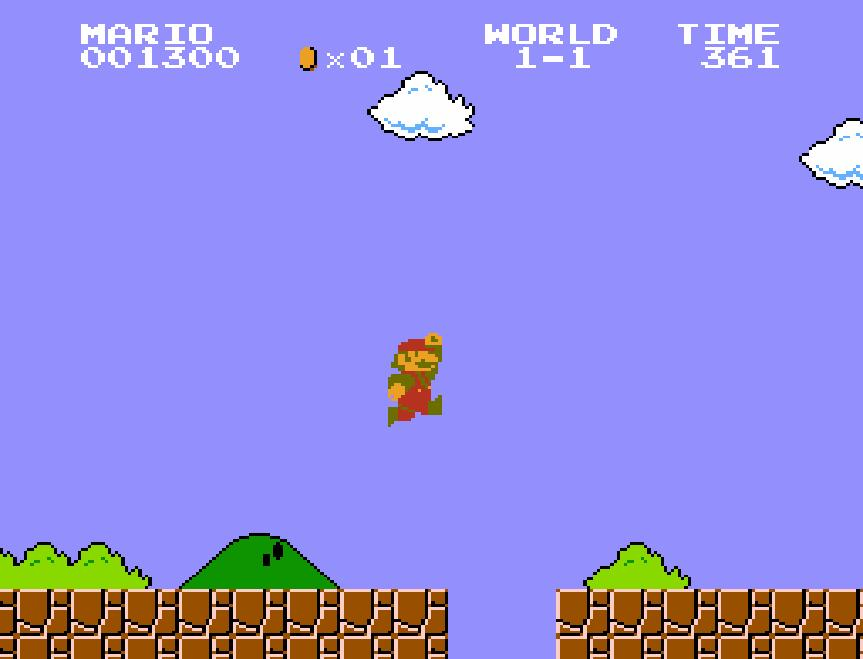big_mario: (386, 330, 444, 429)
